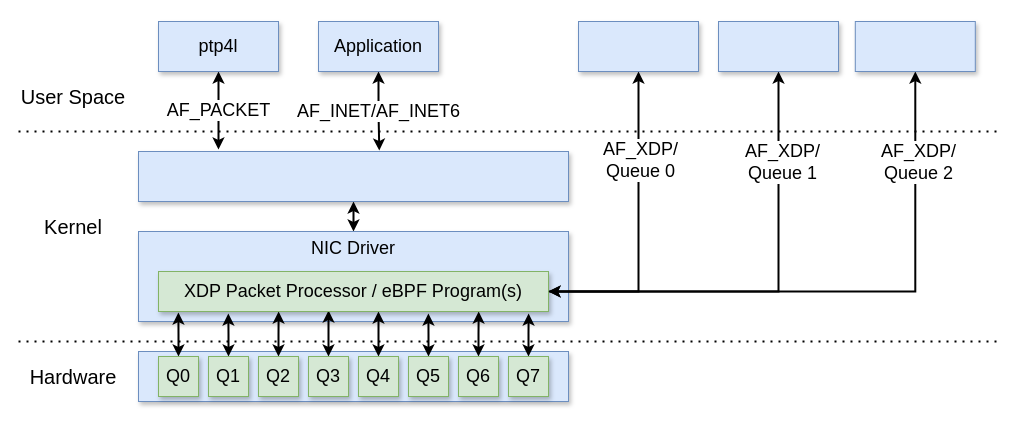
This 1017x426 diagram has some shape labels left out. The shapes that lost their labels are listed below. From the top down, each one's centre as x and y in pixels, then its label:
the point at 639,47: PROFINET
the point at 779,47: OPC/UA
the point at 915,47: Other
the point at 354,177: Linux Network Stack / L2 / L3 / L4
